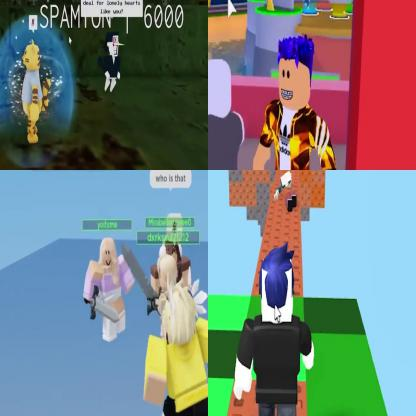Roblox-Avatar: (234, 242, 316, 416), (254, 34, 342, 170), (144, 266, 208, 416), (84, 238, 136, 343), (209, 60, 247, 170), (23, 40, 52, 144)
